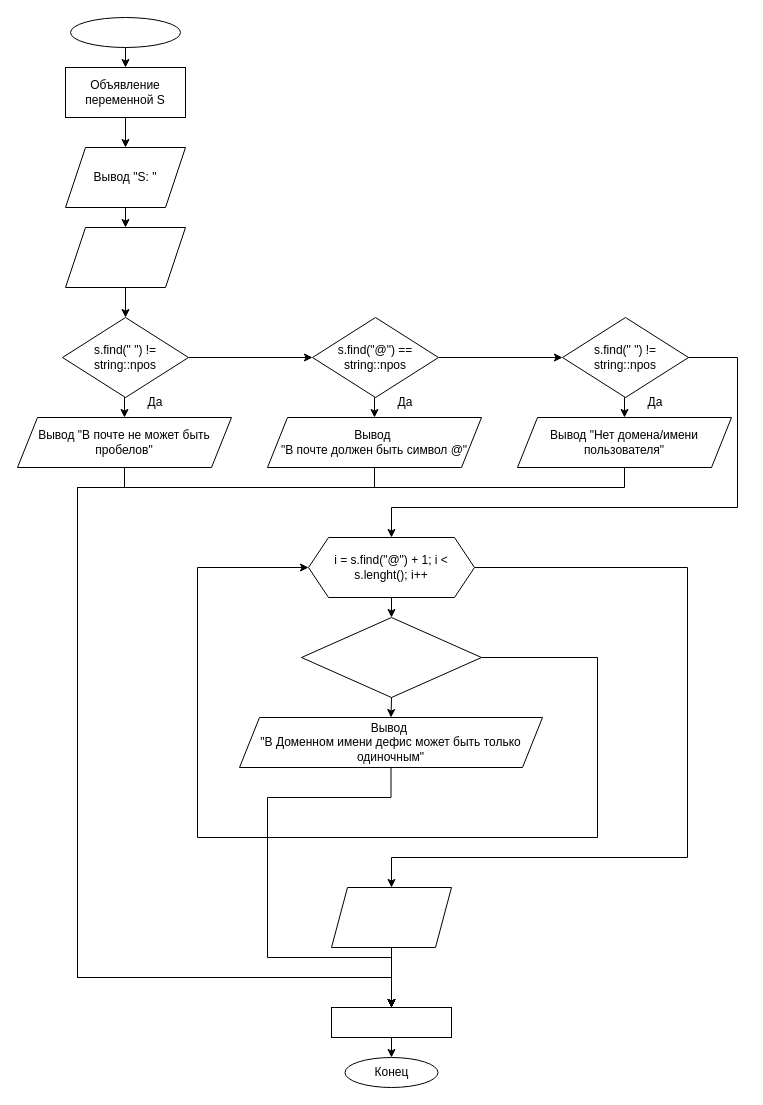
The diagram is 763 pixels wide and 1105 high, and some of its shapes have lost their labels. Each missing label, with the box of its shape:
return 0: (330, 1006, 452, 1038)
s[i] == '-' && s[i-1] == '-': (300, 616, 482, 698)
Ввод S: (64, 226, 186, 288)
Вывод "все правильно": (330, 886, 452, 948)
начало: (70, 16, 180, 48)
